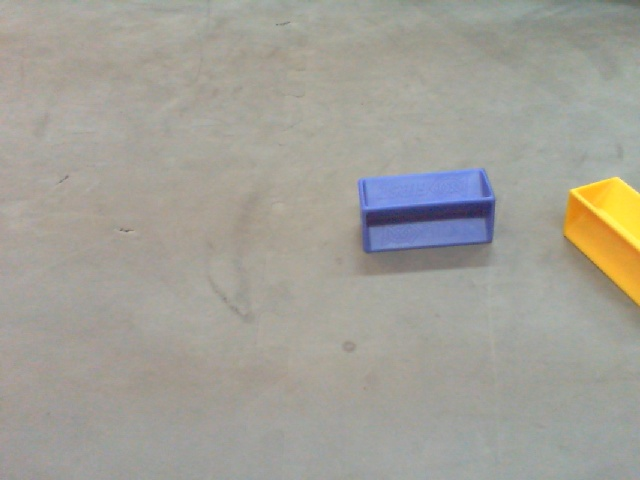BlueSample: (355, 167, 500, 257)
YellowSample: (562, 174, 640, 311)
